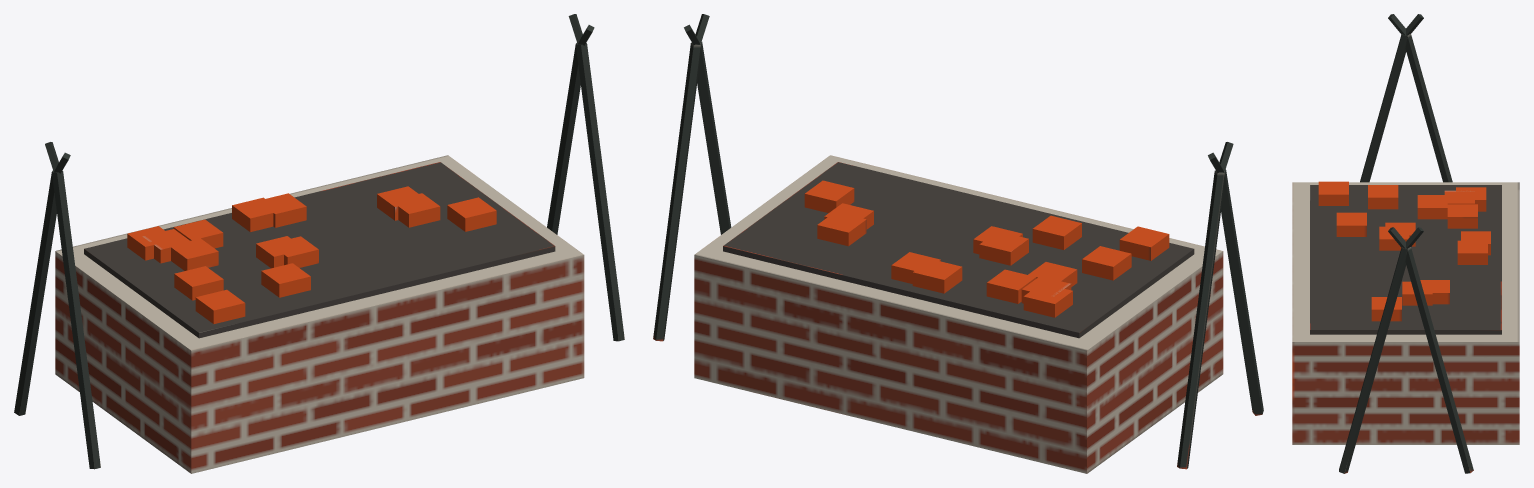
Rendered from gril_090fce5f.glb.
3 views of the same model, side by side, from view 1: azimuth 30°, elevation 25°; view 2: azimuth 150°, elevation 25°; view 3: azimuth 270°, elevation 25° (orthographic). The views are drawn at different scales.
Parts seen in each view (by area): view 1: dum; view 2: dum; view 3: dum.
Part boxes in pixels (x1,y1,x2,y2): dum: (14, 14, 624, 473); dum: (653, 14, 1263, 473); dum: (1292, 14, 1519, 473).
Size of the model in its own units: 2.03 by 1.07 by 0.8977.
1 material, 1 textured.
